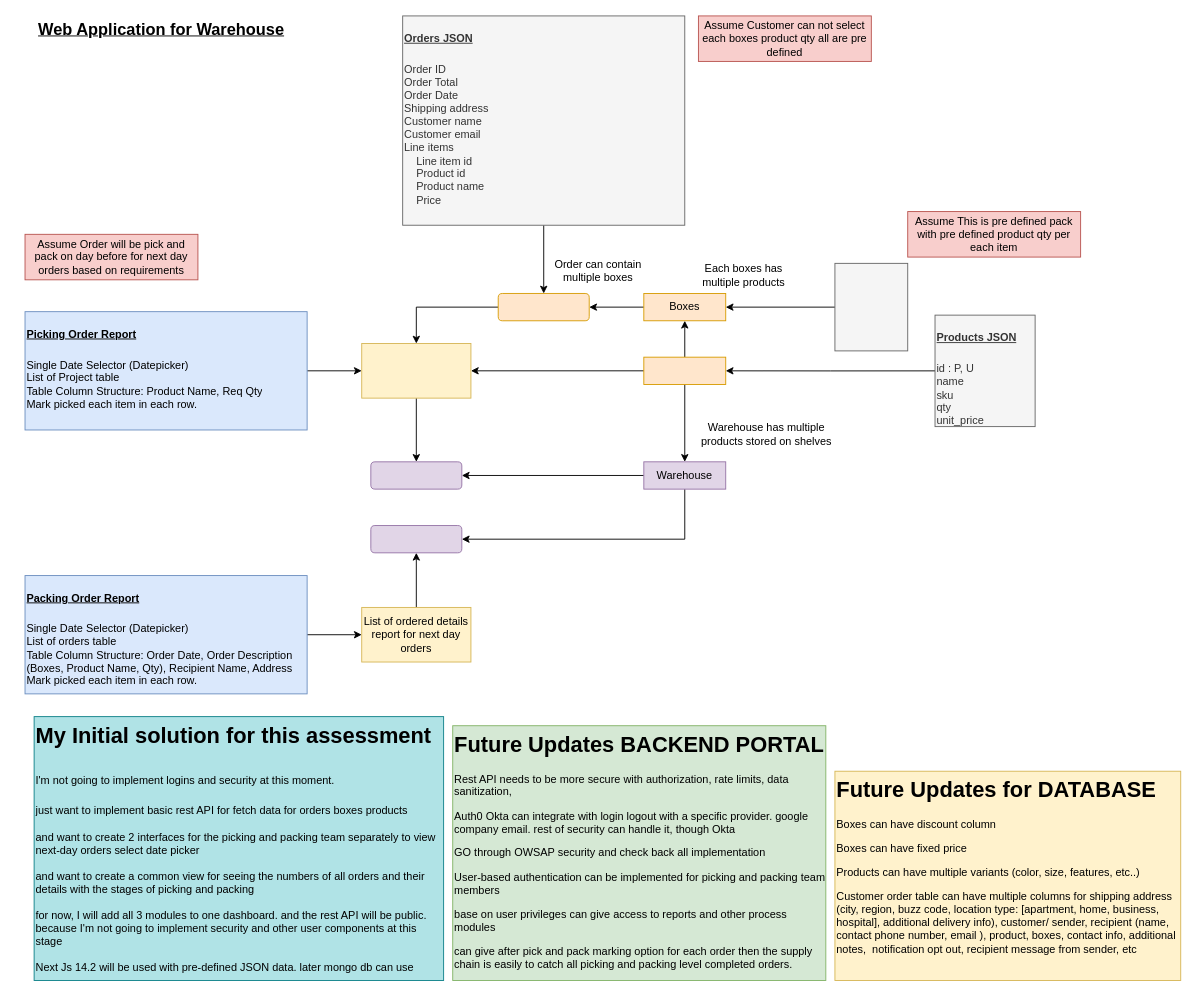
Image size: 1197x999. Some labels were removed from this diagram. The centre of each missing label's shape, as x and y in pixels:
"Boxes JSON id: P, U name products" goes at pixel 871 306.
"List of ordered products qty report for next day orders" goes at pixel 416 370.
"Orders" goes at pixel 543 307.
"Packing Team" goes at pixel 416 539.
"Picking Team" goes at pixel 416 475.
"Products" goes at pixel 684 370.
